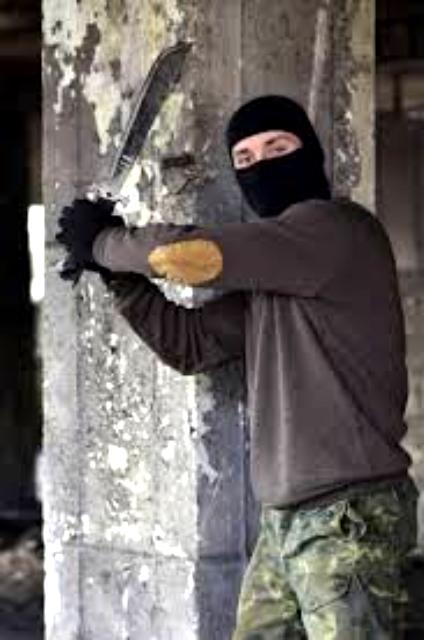long knife: (61, 26, 199, 298)
